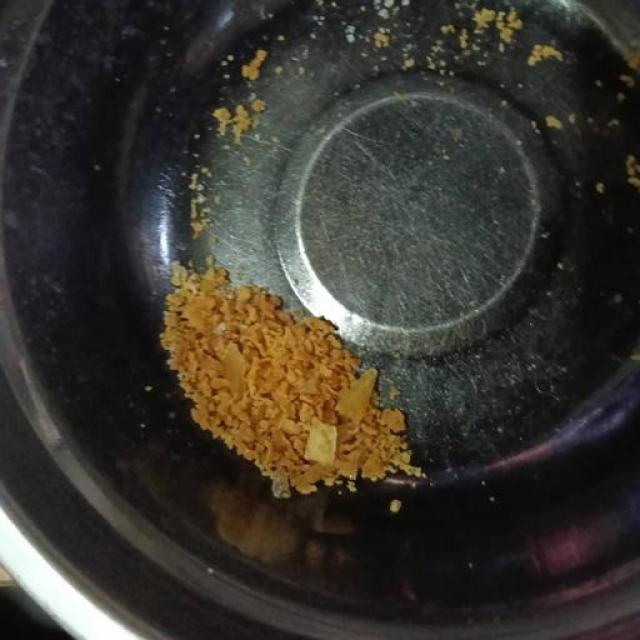organic: (132, 94, 456, 600)
